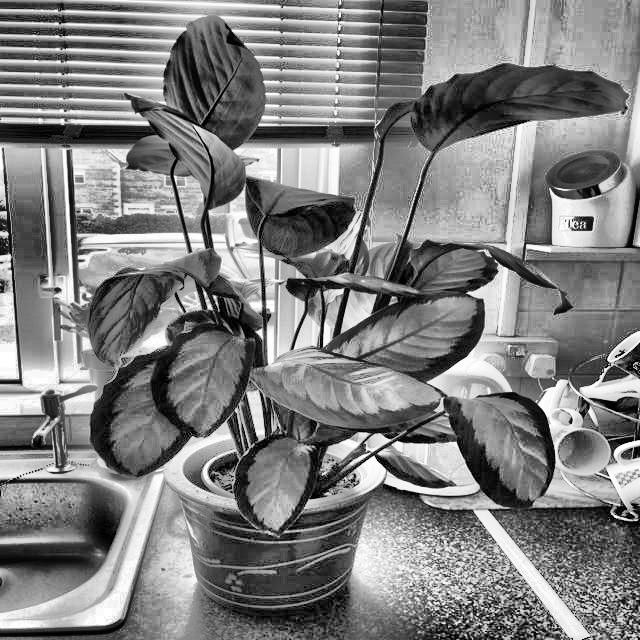plants: (83, 12, 634, 603), (142, 12, 270, 214), (391, 75, 628, 146), (402, 240, 586, 324)
